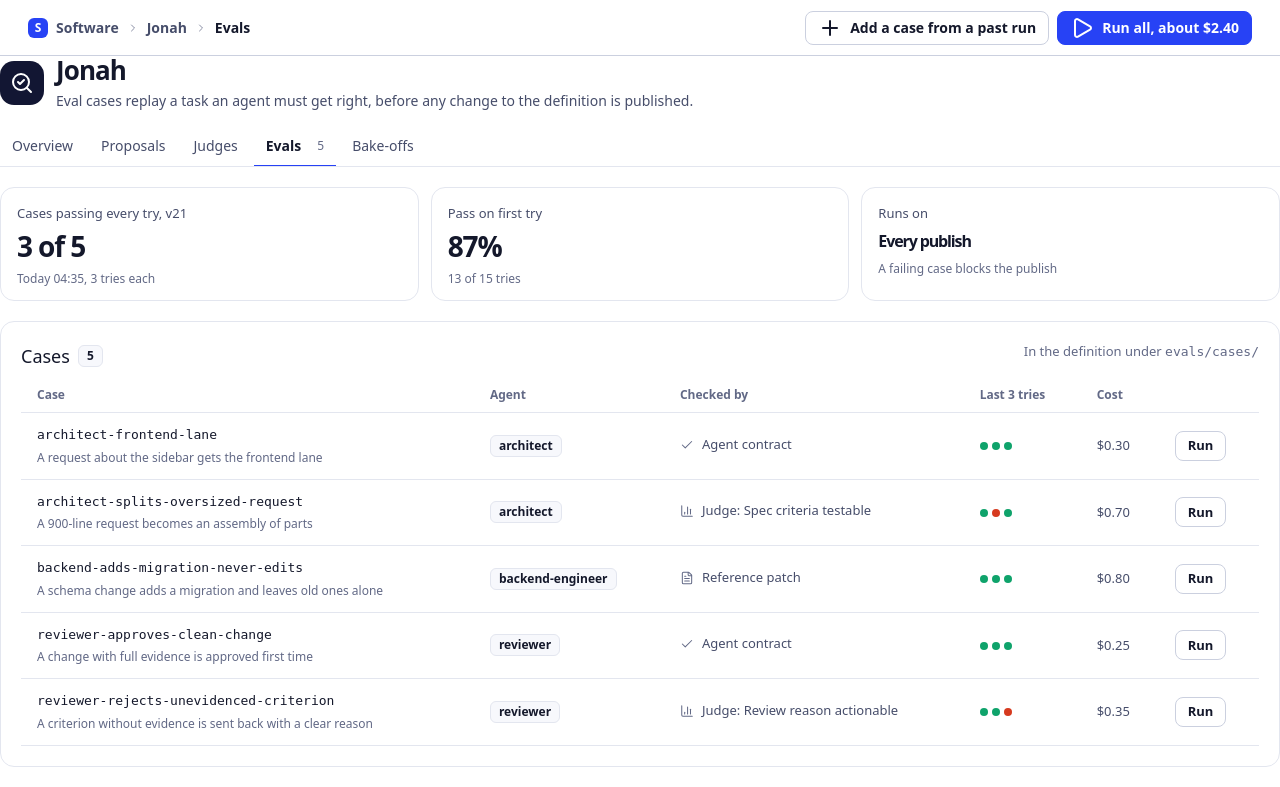
Test: adding a case from a past run › shows a 409 refusal in place: the draft is open
The width and height of the screenshot is (1280, 787).
Expected: the table is shown, [21,386,1259,746]
Click the button "Add a case from a past run" at (927, 28), box [805,10,1049,44]
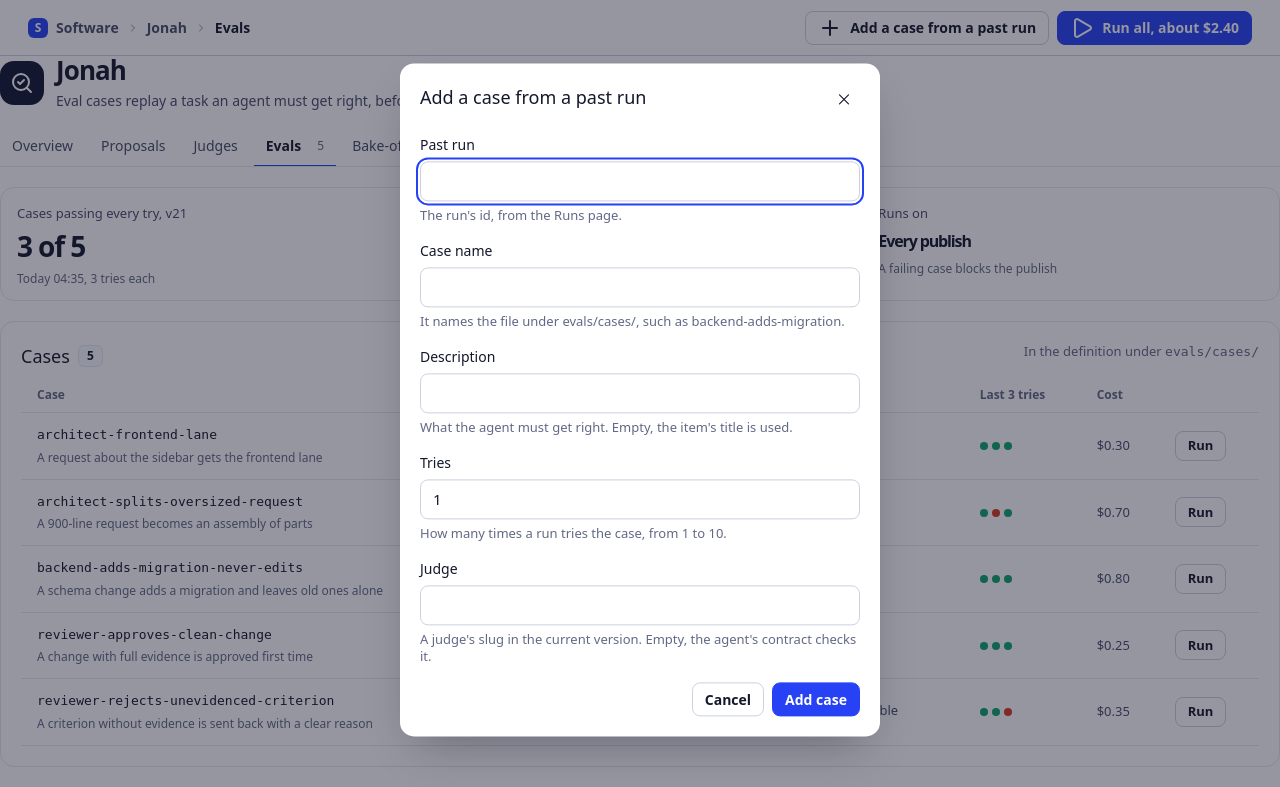
Type "run-41" into the field labelled "Past run" at (640, 181), box [420,161,860,201]
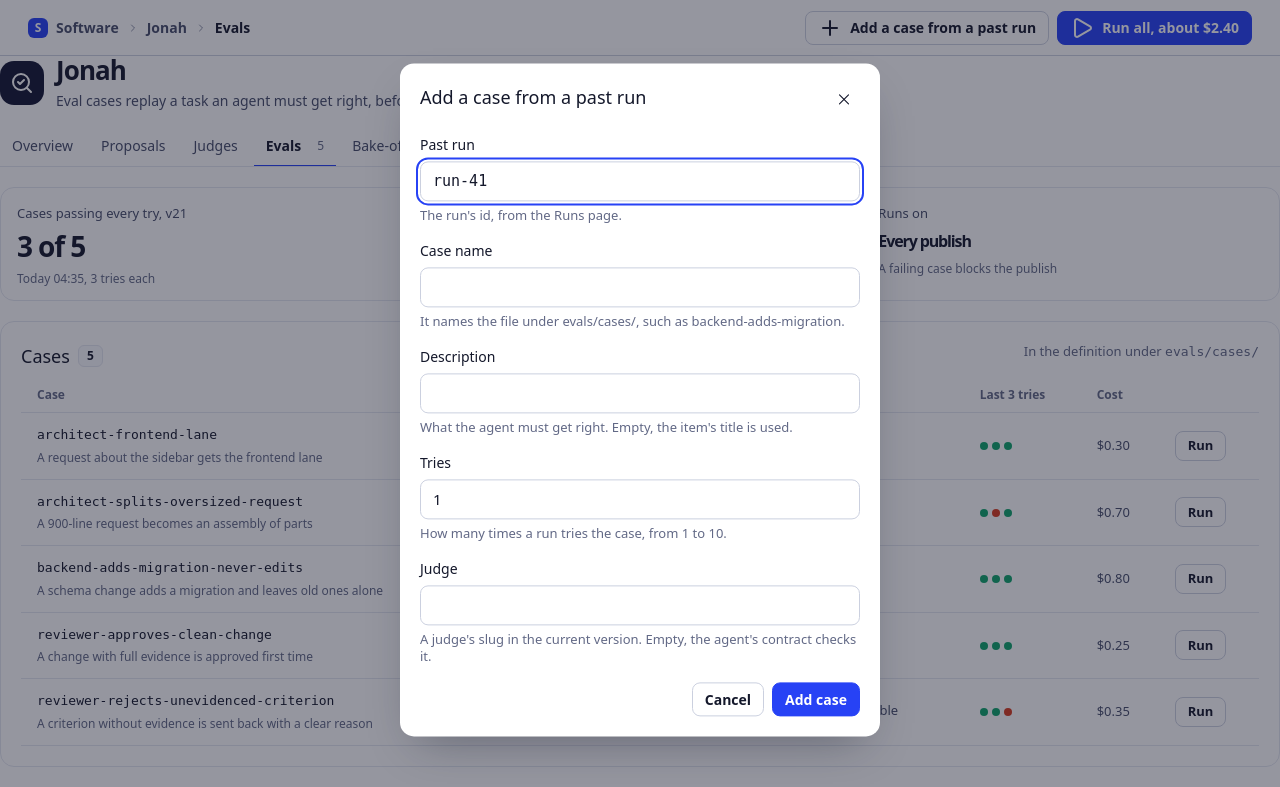
Type "reviewer-misses-tests" into the field labelled "Case name" at (640, 287), box [420,267,860,307]
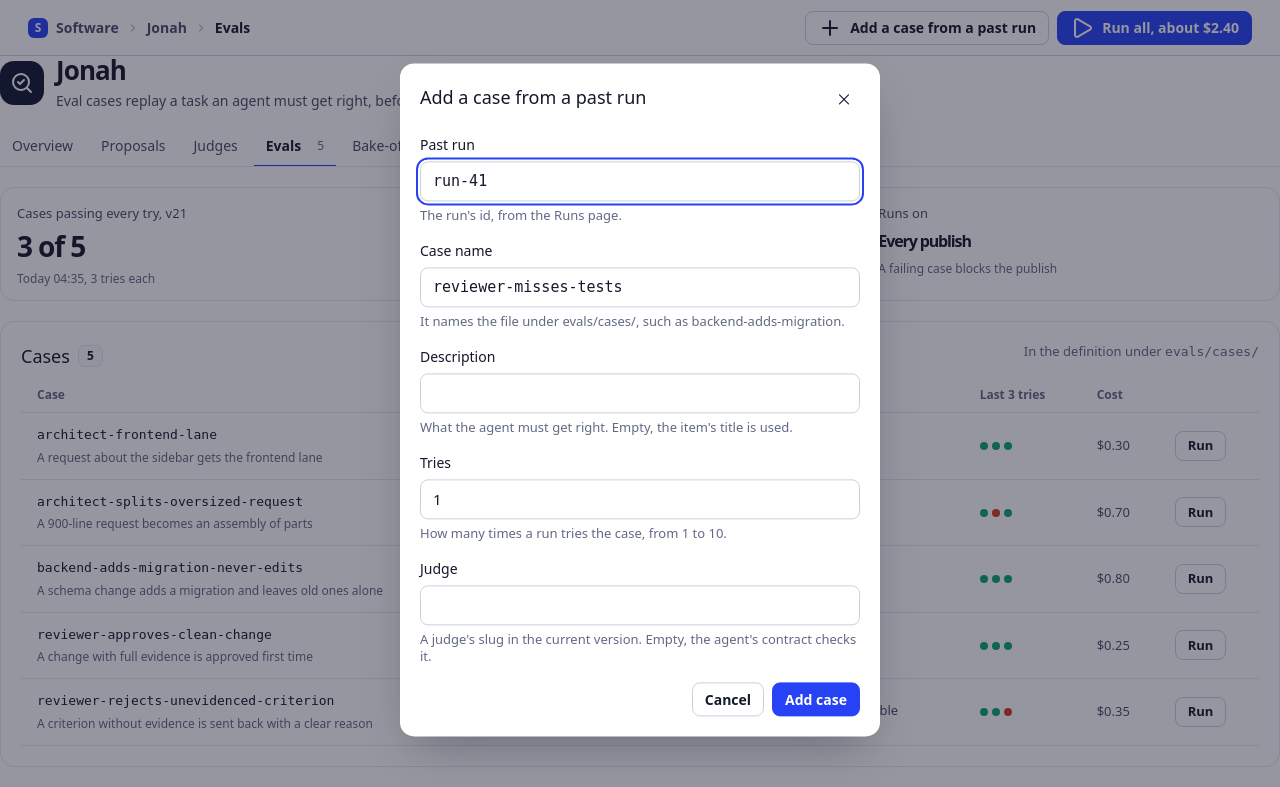
Click the button "Add case" at (816, 700), box [772,683,860,717]
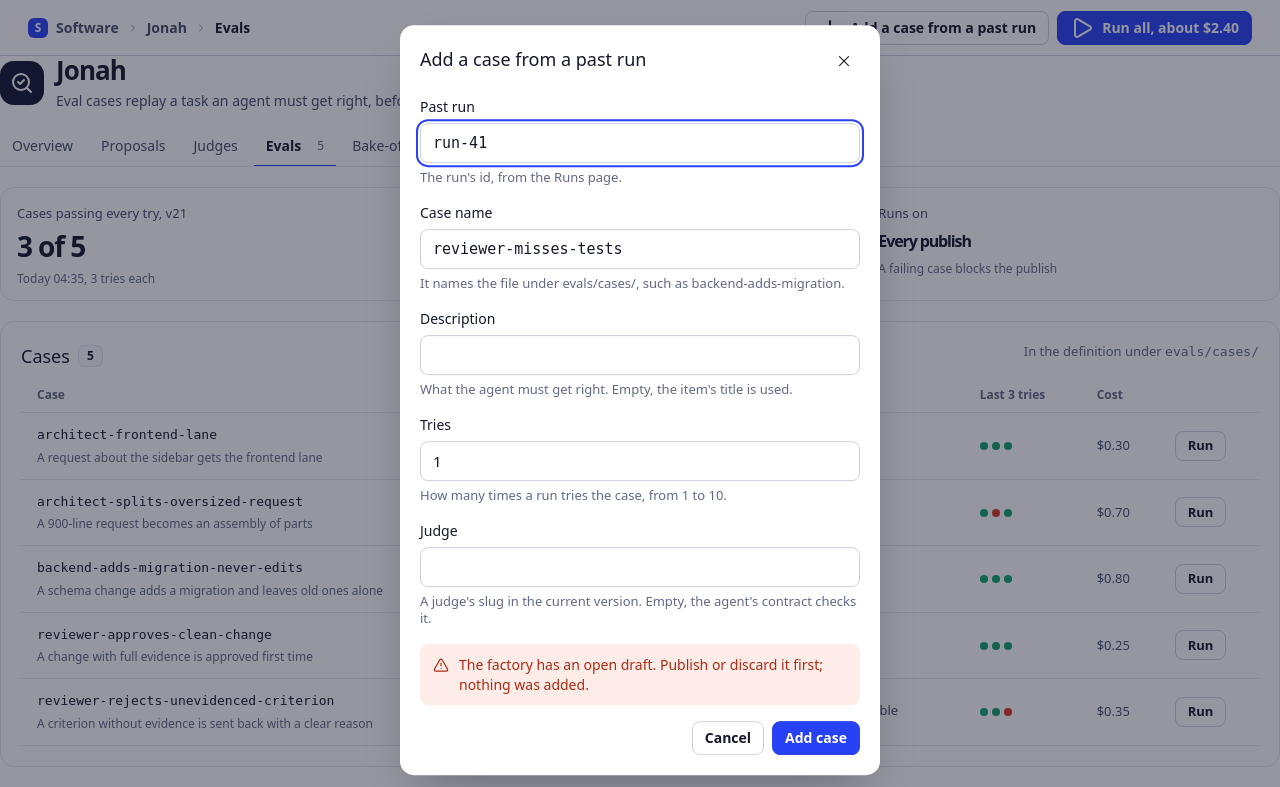
Expected: the dialog is shown, [400,25,880,775]
Expected: the text "The factory has an open draft" is shown, [459,655,823,694]
